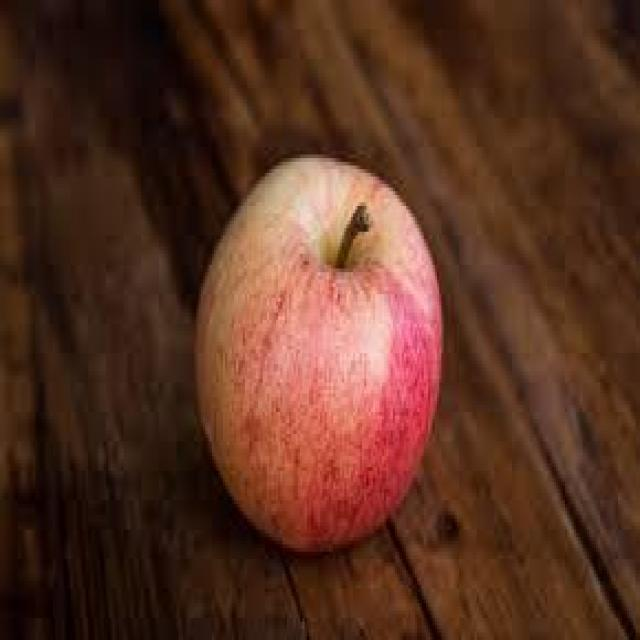apple: (198, 155, 443, 550)
